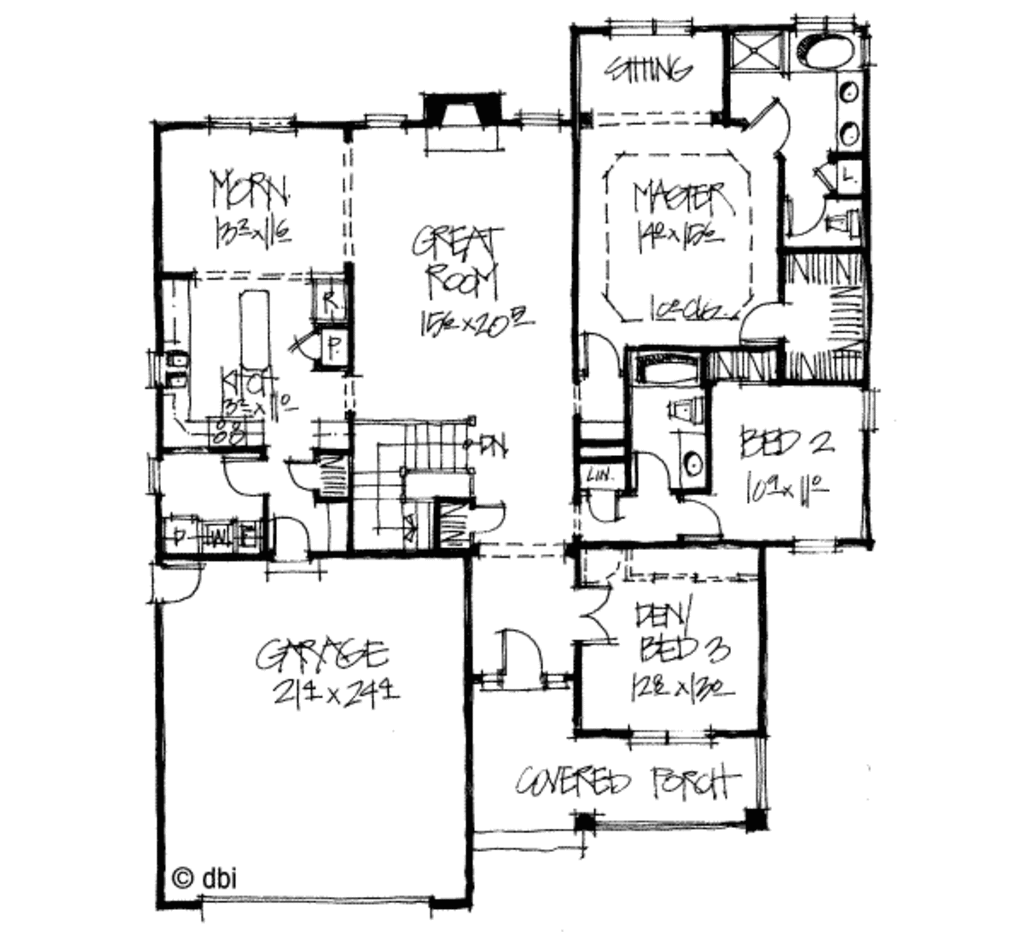door: (488, 631, 554, 691), (564, 580, 616, 647), (139, 559, 209, 608), (742, 93, 798, 154), (271, 510, 324, 570), (737, 296, 791, 351), (577, 324, 626, 381), (629, 439, 676, 495), (220, 455, 271, 502), (673, 498, 724, 539), (789, 184, 825, 242), (468, 500, 511, 542), (282, 450, 322, 494), (583, 487, 626, 524), (289, 327, 324, 366)
large_sink: (663, 388, 705, 429), (829, 207, 864, 239)
small_sink: (833, 74, 872, 157), (679, 434, 711, 492)
stairs: (353, 419, 474, 544)
tub: (629, 349, 704, 387)
twin_sink: (160, 355, 208, 390)
window: (625, 725, 724, 755), (197, 115, 309, 139), (605, 12, 697, 41), (136, 453, 184, 500), (852, 390, 890, 446), (788, 529, 839, 562), (362, 106, 408, 129), (516, 111, 561, 133)
